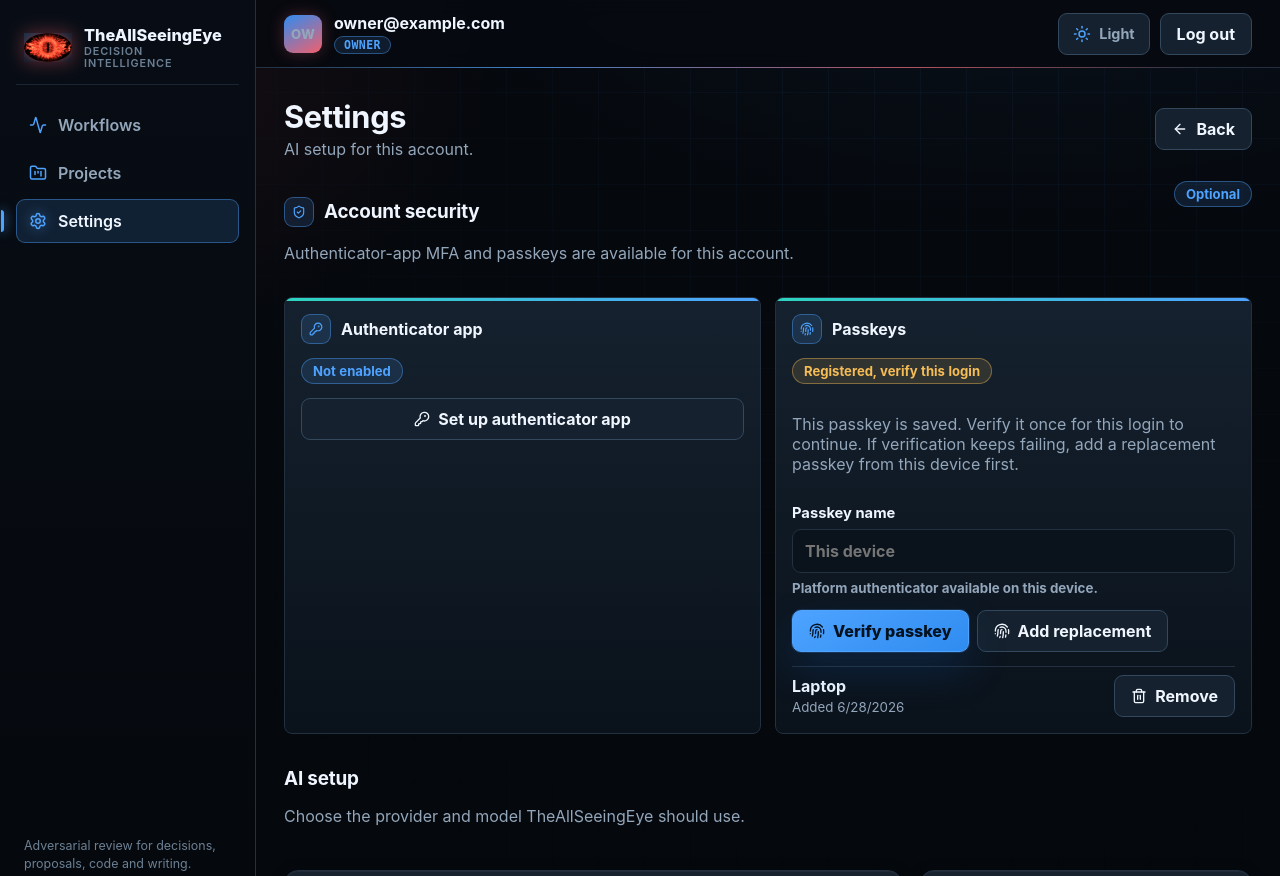
Test: MFA passkeys › removes a passkey from account security settings
The image size is (1280, 876).
Click the button "Remove" at (1175, 696), box [1114,675,1235,717]
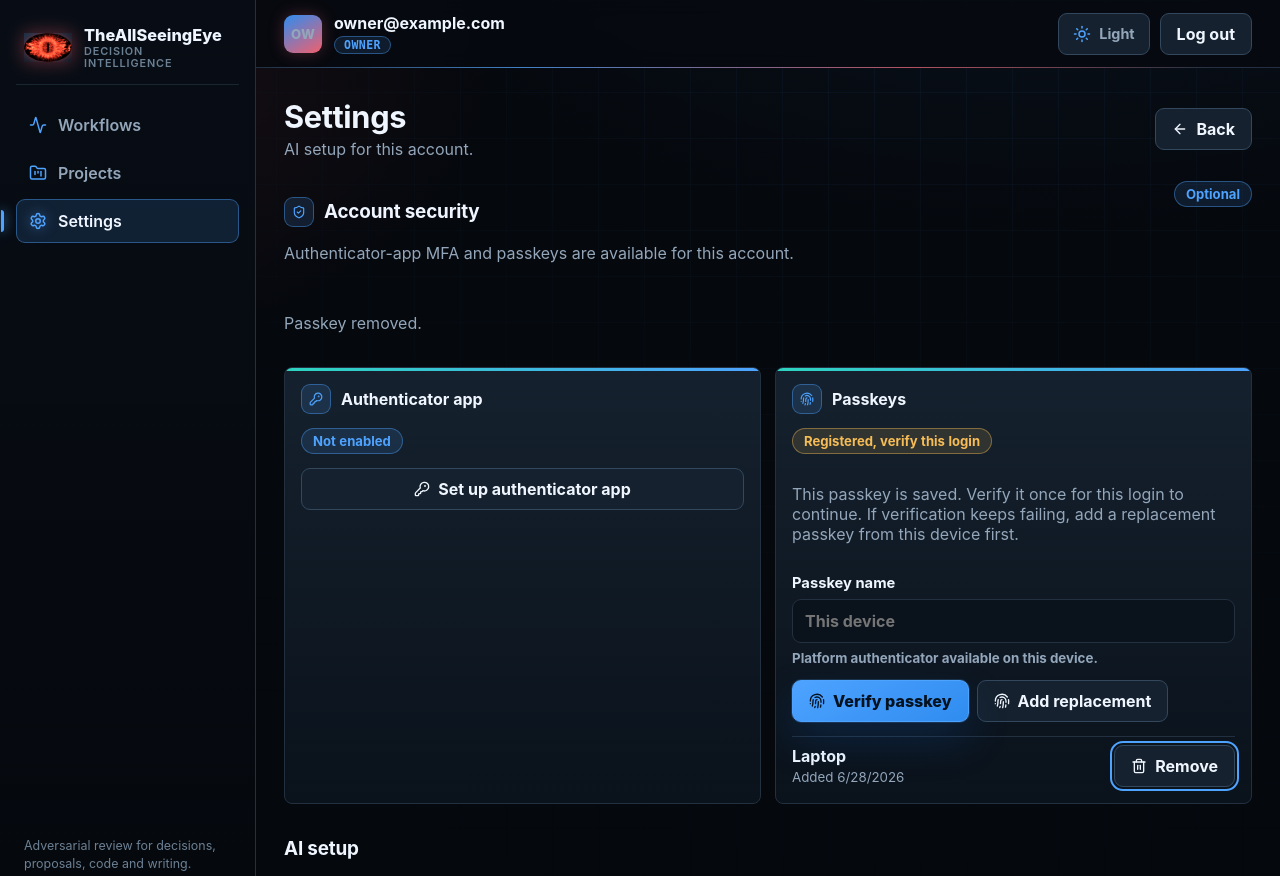
Result: the text "Passkey removed." is shown at [284,313,422,333]
